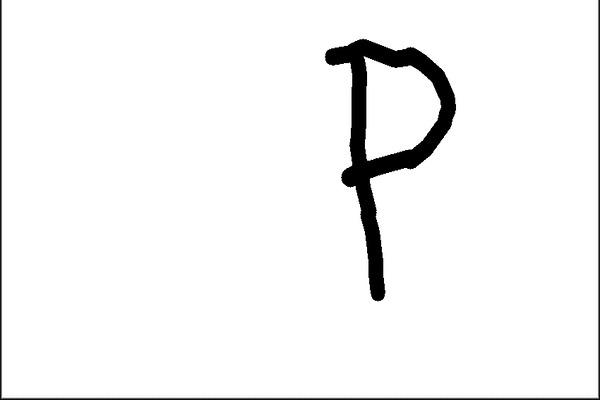P: (310, 23, 468, 305)
